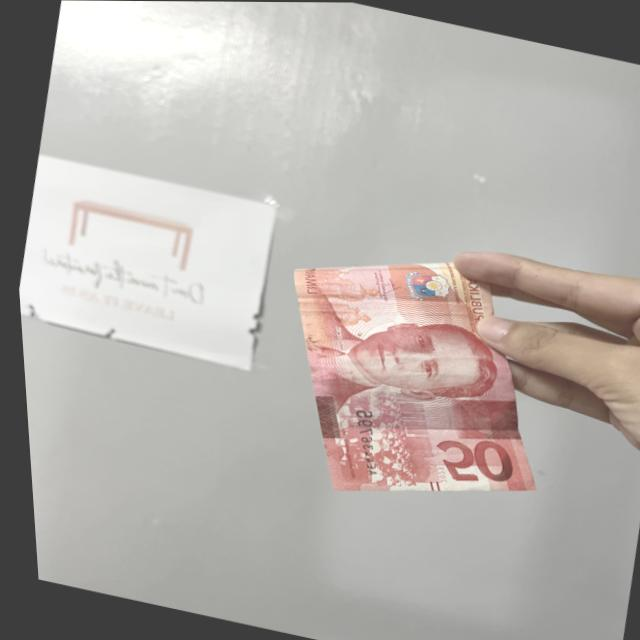concealed_value: (432, 385, 526, 452)
serial_number: (335, 402, 390, 486)
value: (419, 422, 520, 496)
